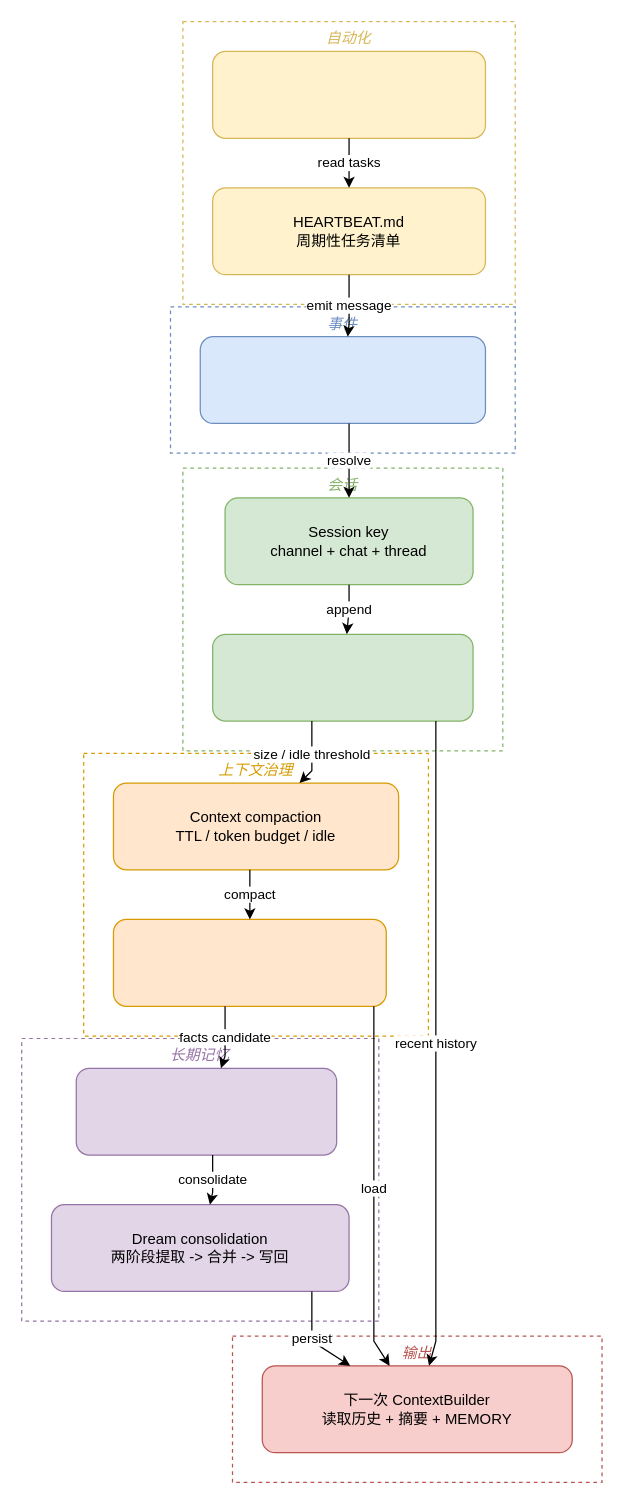
The diagram is 624 pixels wide and 1504 high, and some of its shapes have lost their labels. The shapes that lost their labels are listed below. From the top down, each one's centre as x and y in pixels, then its label:
At pixel 348 94: "Cron / long task 后台触发器与持续目标".
At pixel 342 379: "Inbound / Outbound events 一次 turn 的消息与工具结果".
At pixel 342 677: "JSONL history 逐条追加、原子写入".
At pixel 249 962: "压缩摘要 保留事实与最近消息".
At pixel 206 1111: "MEMORY.md 长期事实与用户偏好".
